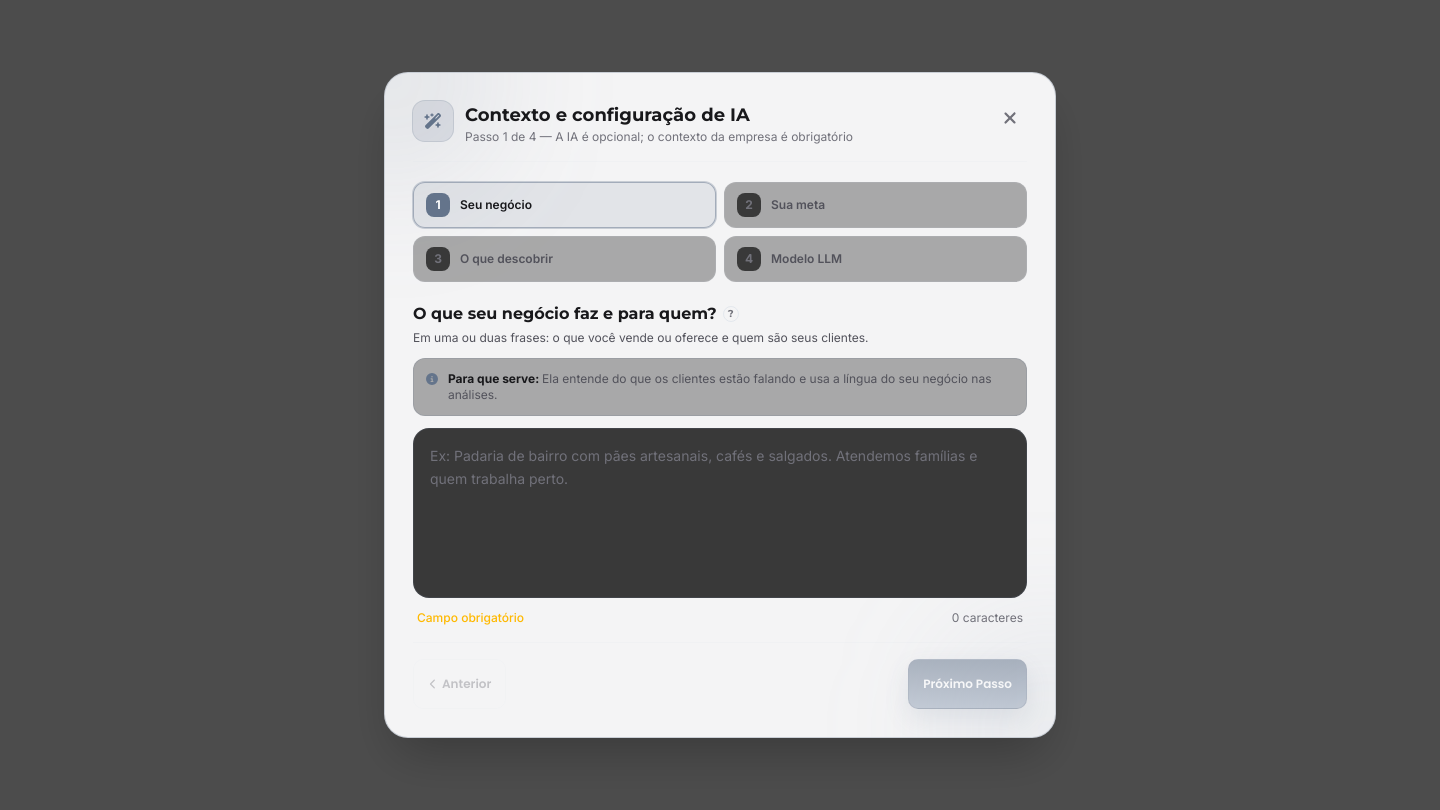
[Unidade] Componentes e Contexto de Onboarding › apresenta o contexto primeiro e permite avançar até a etapa da LLM
Check: the button with aria-label "1. Seu negócio" is shown, box [413, 182, 716, 228]
Check: the heading "O que seu negócio faz e para quem? ?" is shown, box [413, 304, 739, 323]
Step 1. Replace the text in the text box with placeholder "Padaria de bairro com pães artesanais" with "Resumo da empresa" → (720, 513), box [413, 428, 1027, 598]
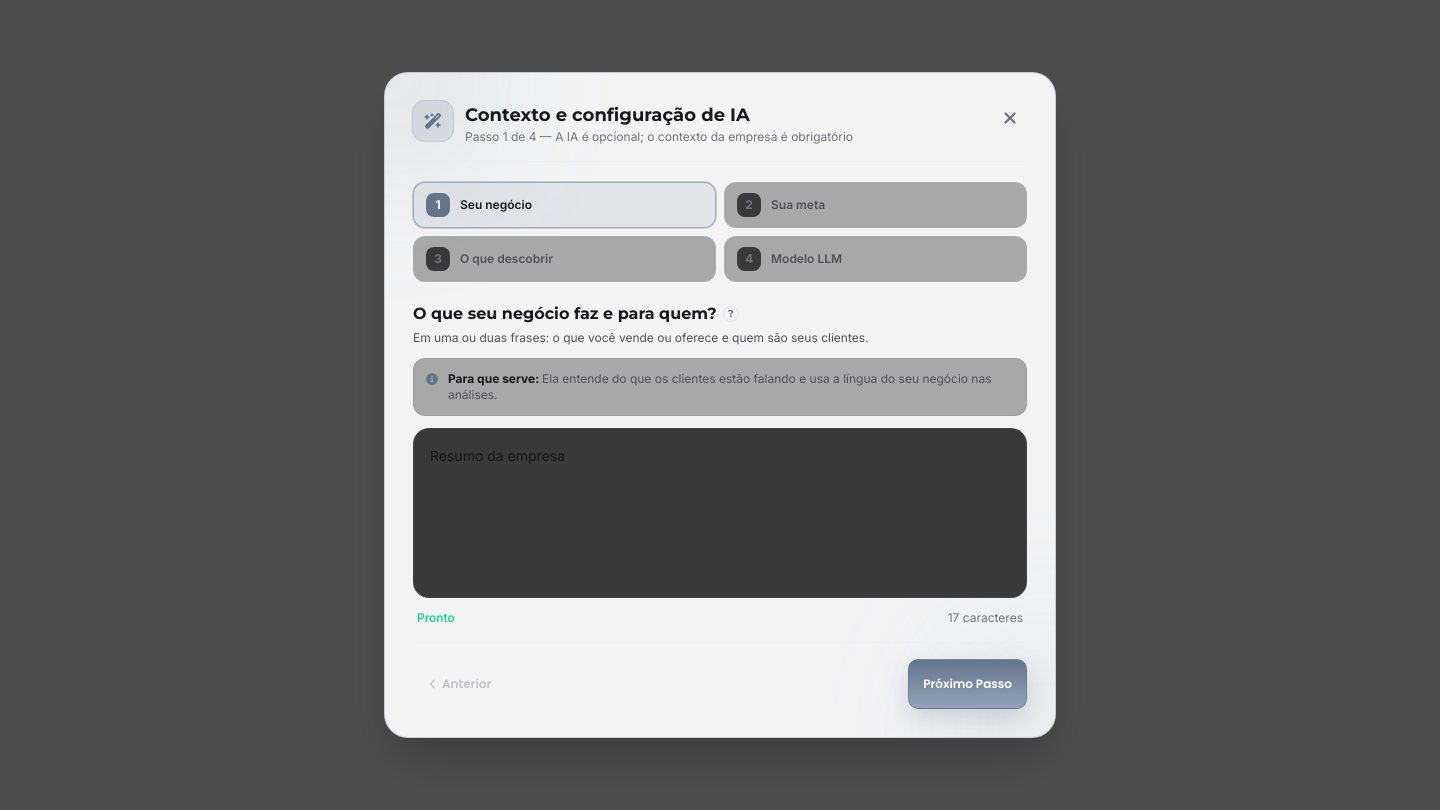
Check: the button "Próximo Passo" is enabled
Step 2. Click the button "Próximo Passo" → (968, 684), box [908, 659, 1027, 709]
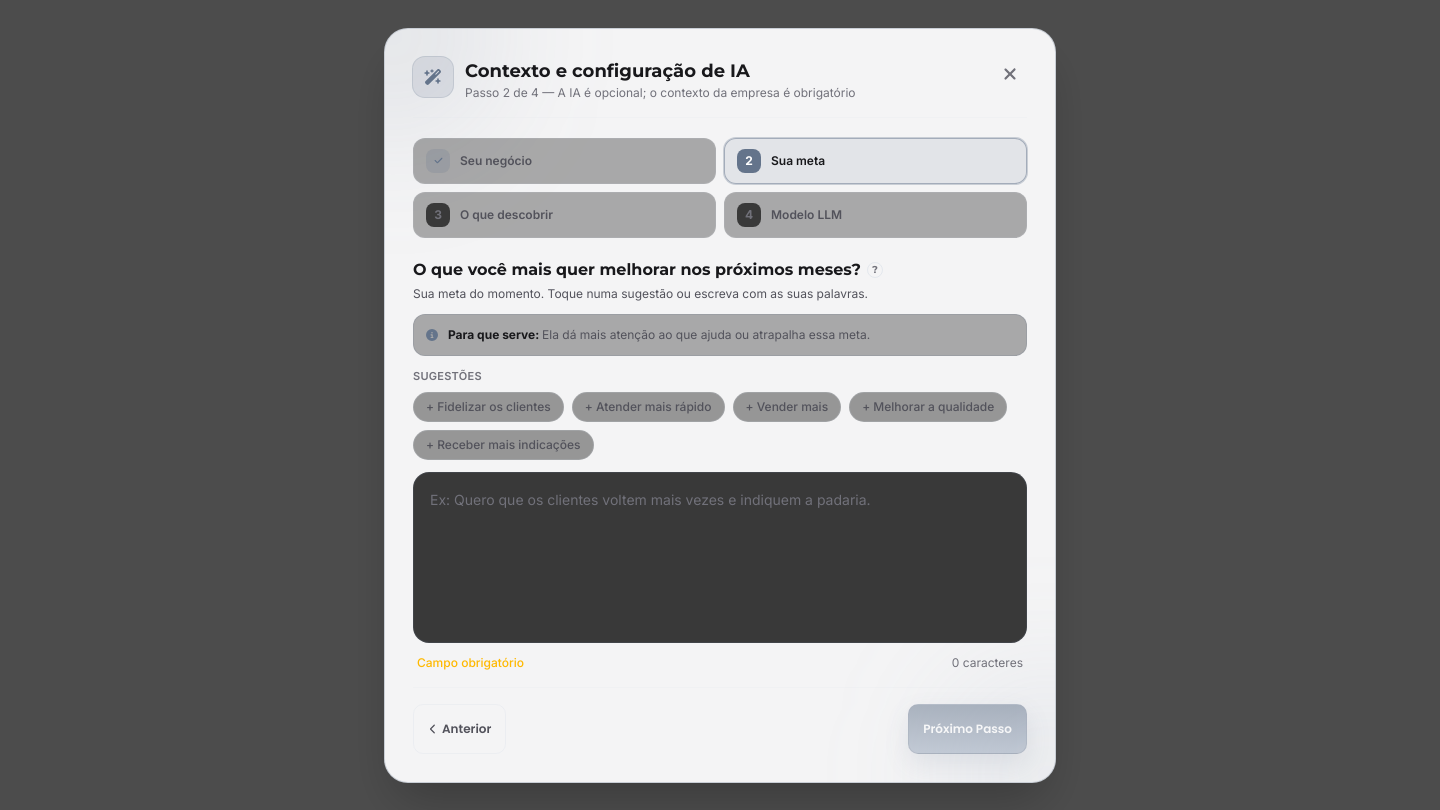
Check: the heading "O que você mais quer melhorar nos próximos meses? ?" is shown, box [413, 260, 883, 278]
Check: the button "Próximo Passo" is disabled, box [908, 704, 1027, 754]
Step 3. Replace the text in the text box with placeholder "Quero que os clientes voltem mais vezes" with "Objetivo da empresa" → (720, 557), box [413, 472, 1027, 642]
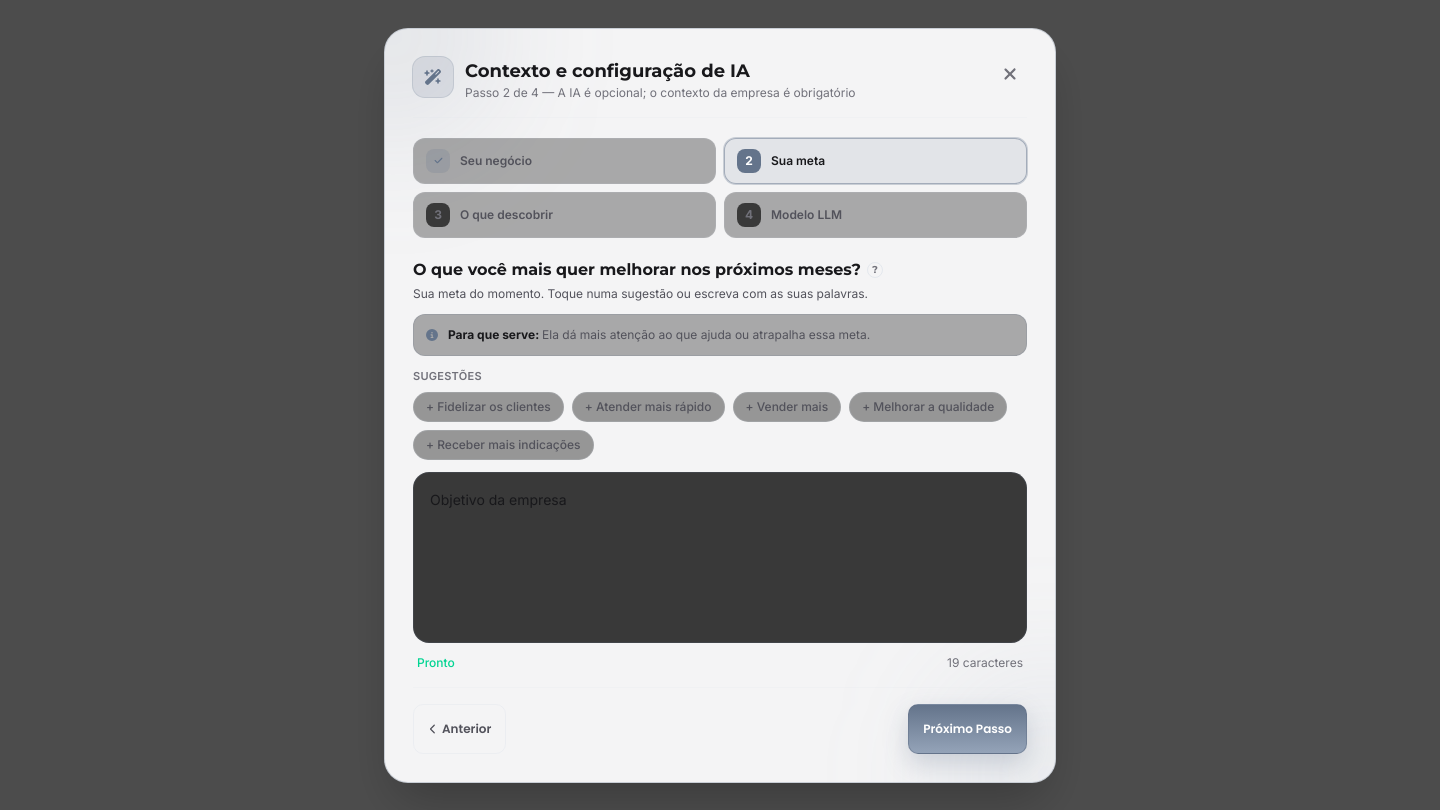
Step 4. Click the button "Próximo Passo" → (968, 728), box [908, 704, 1027, 754]
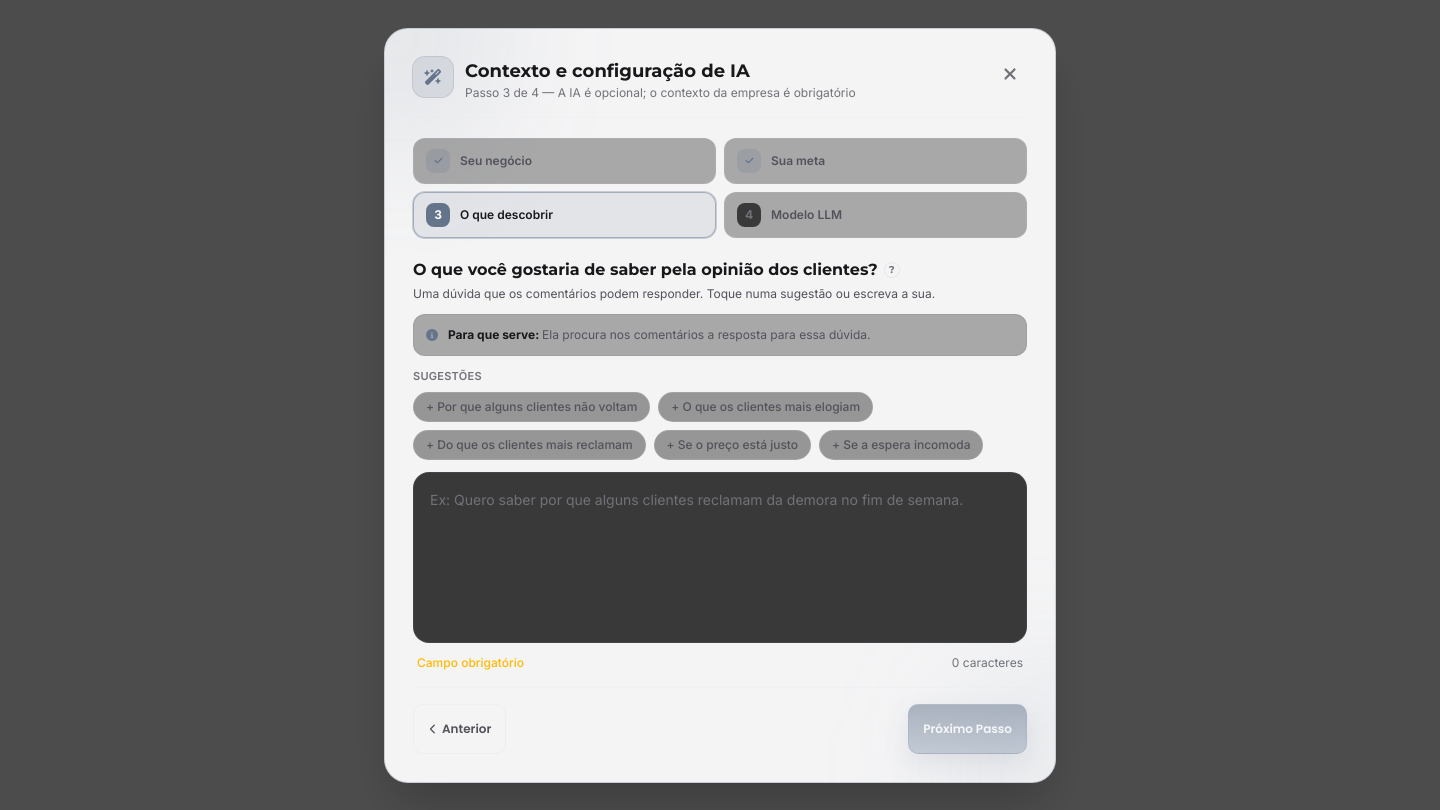
Check: the heading "O que você gostaria de saber pela opinião dos clientes? ?" is shown, box [413, 260, 900, 278]
Step 5. Replace the text in the text box with placeholder "Quero saber por que alguns clientes reclamam" with "Analisar os principais motivos das reclamações" → (720, 557), box [413, 472, 1027, 642]
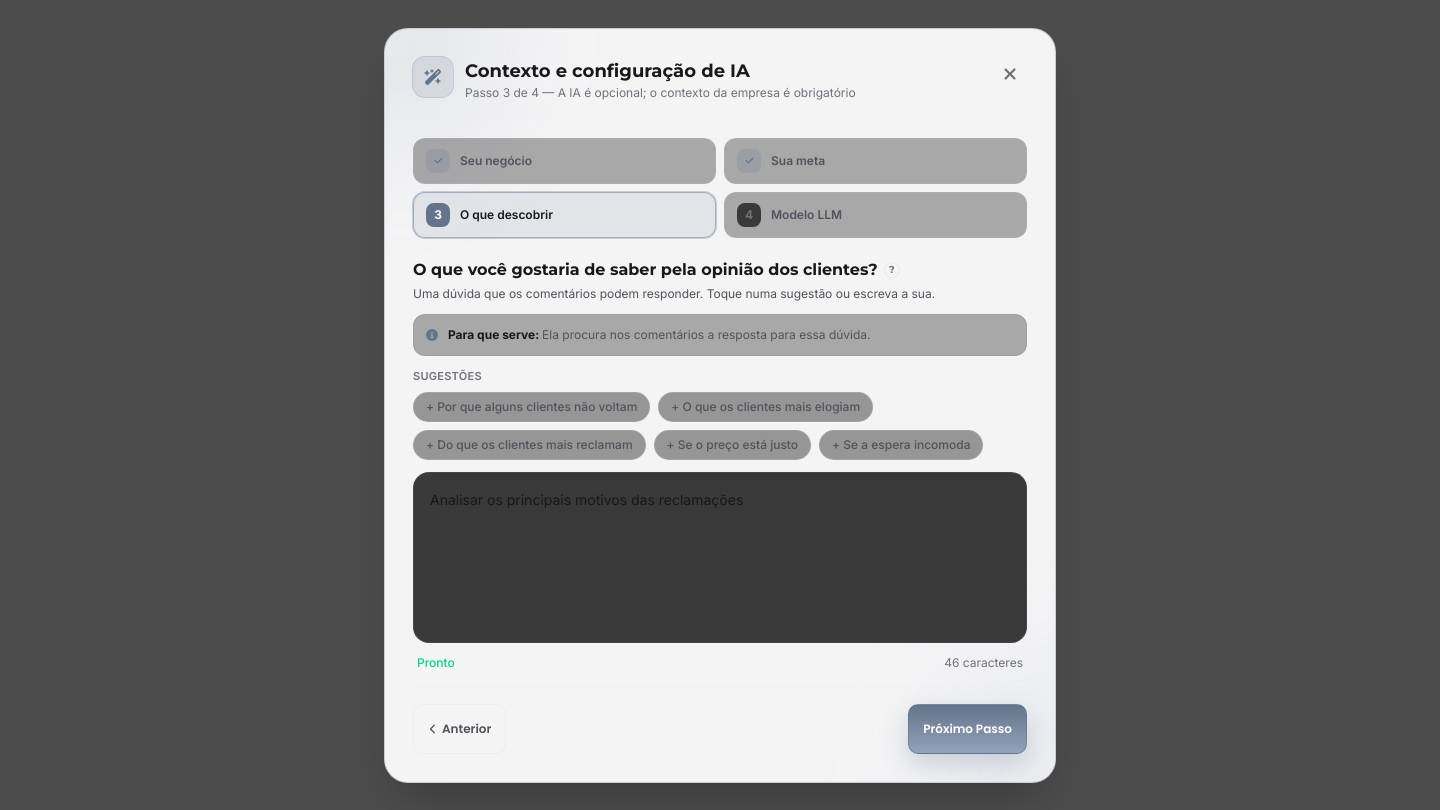
Step 6. Click the button "Próximo Passo" → (968, 728), box [908, 704, 1027, 754]
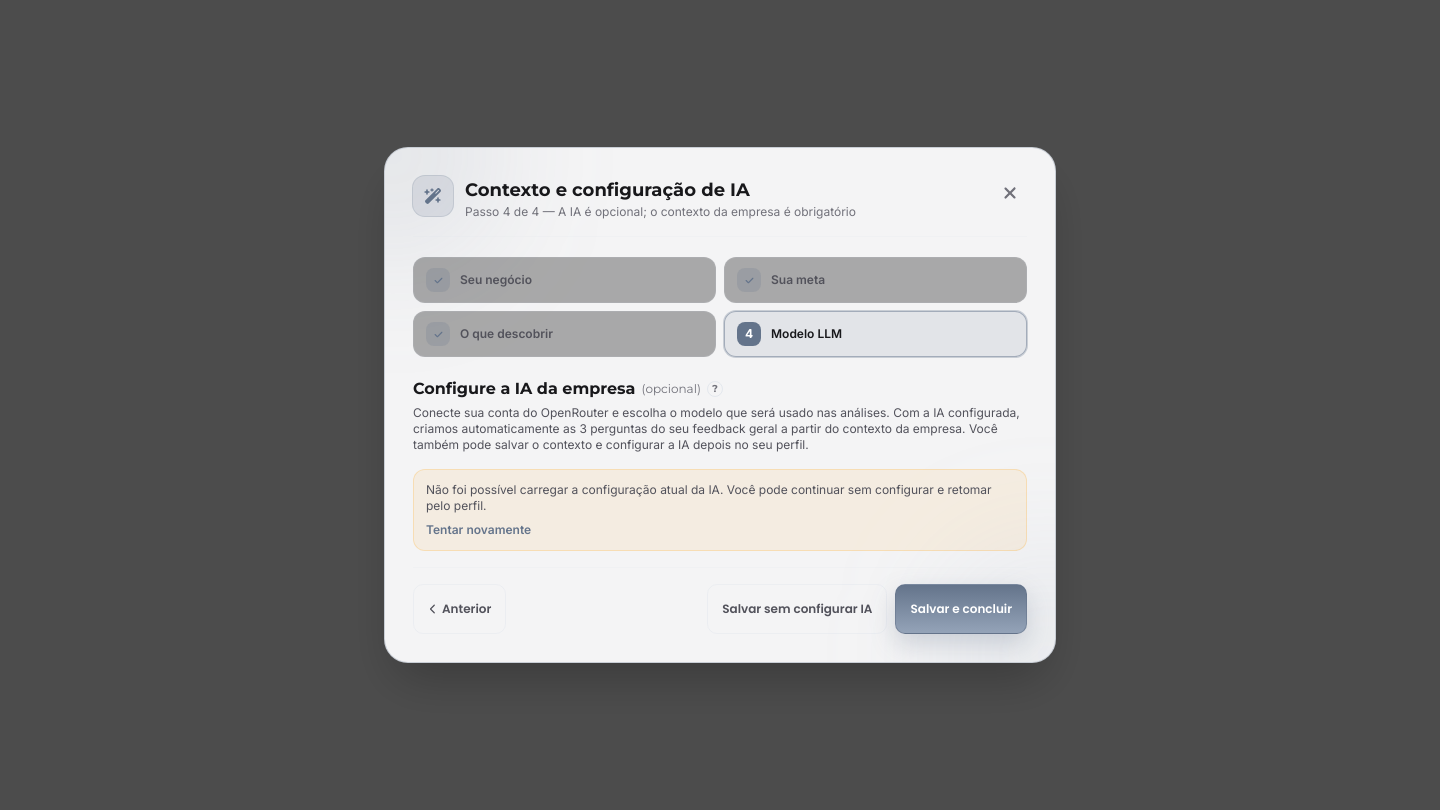
Check: the button with aria-label "4. Modelo LLM" is shown, box [724, 311, 1027, 357]
Check: the text "Passo 4 de 4" is shown, box [465, 204, 856, 219]
